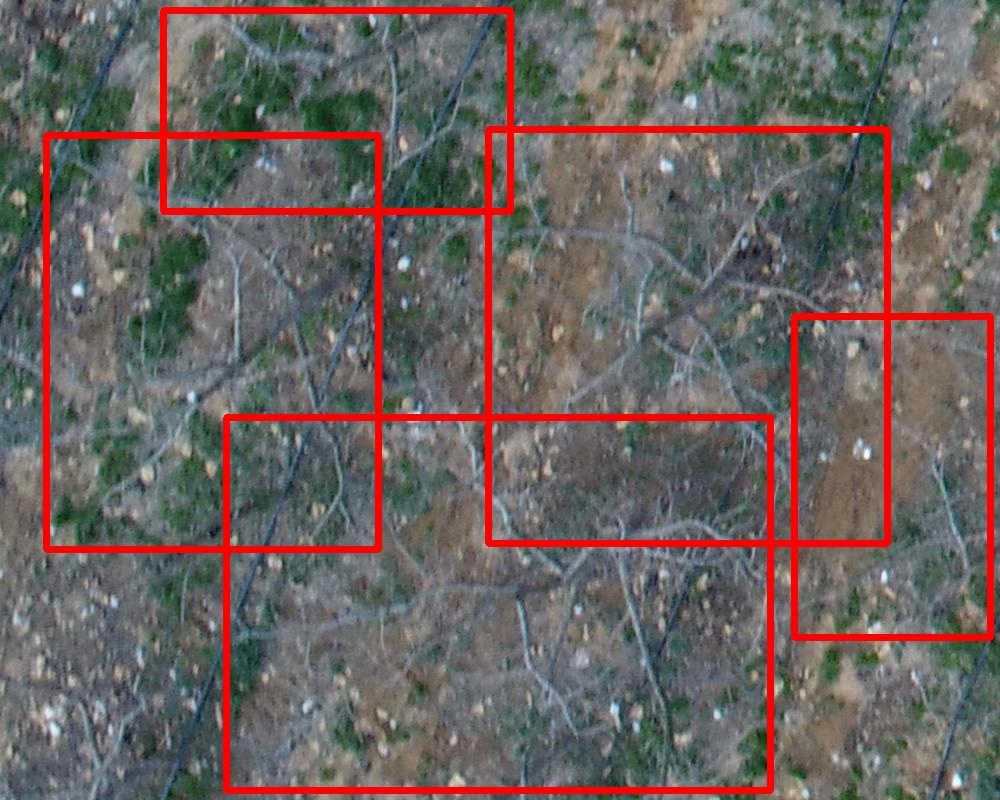apple: (226, 417, 770, 790), (488, 129, 887, 543), (46, 135, 378, 549), (163, 10, 510, 211), (794, 316, 990, 637)
